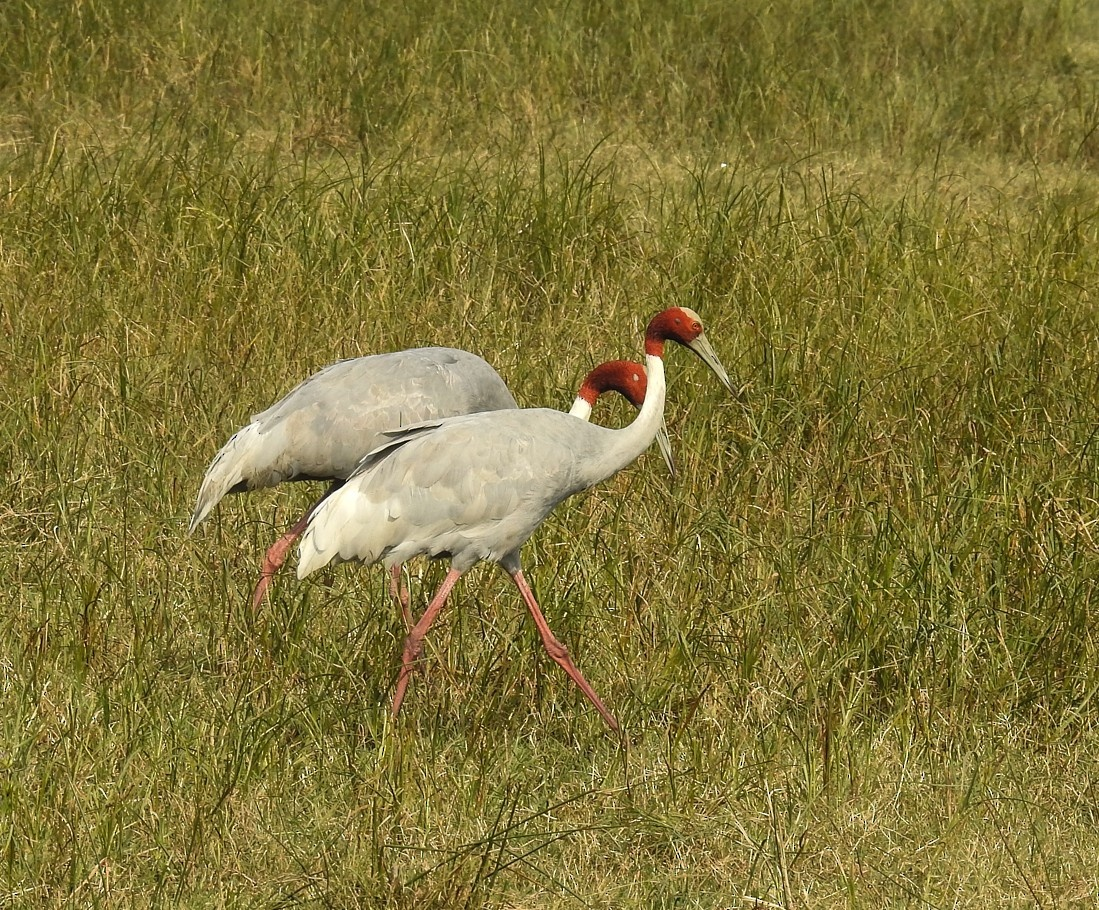crane: (284, 298, 742, 778), (193, 366, 691, 500)
